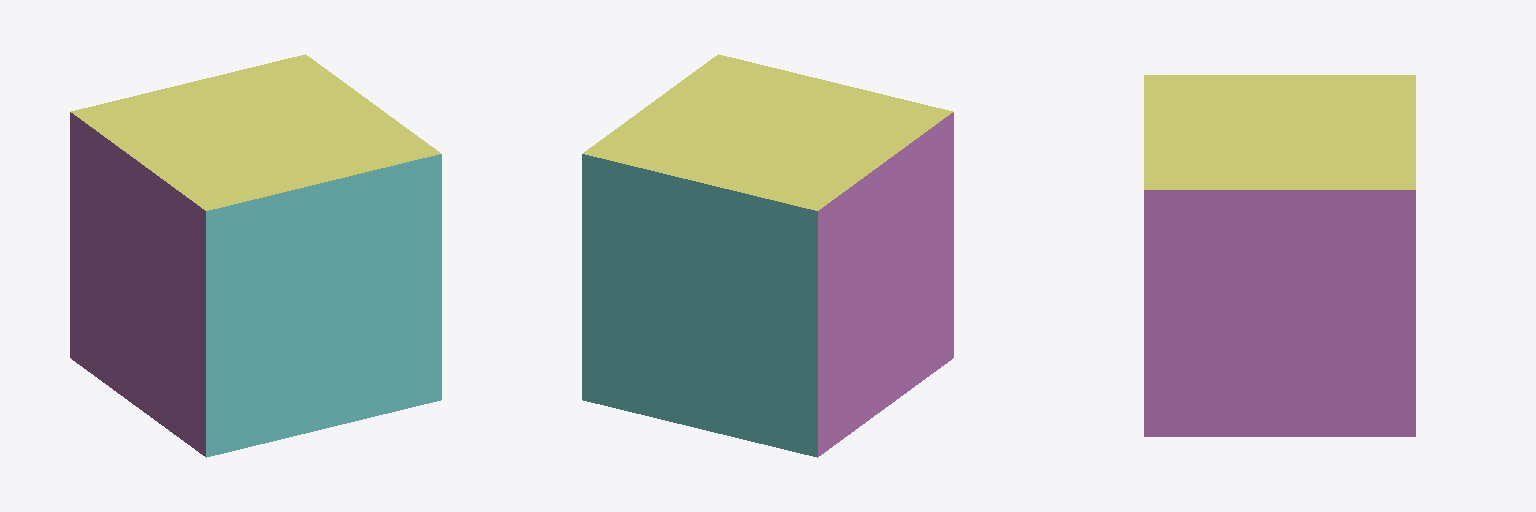
The picture shows the model from 3 angles: view 1: azimuth 30°, elevation 25°; view 2: azimuth 150°, elevation 25°; view 3: azimuth 270°, elevation 25°; orthographic projection.
Visible parts, largest first — view 1: Cube; view 2: Cube; view 3: Cube.
Boxes of the visible parts, x1=… form: Cube: x1=70, y1=54, x2=441, y2=457; Cube: x1=582, y1=54, x2=953, y2=457; Cube: x1=1144, y1=75, x2=1415, y2=436.
Bounding box in the file's own units: 2 × 2 × 2.
1 materials, 1 textured.